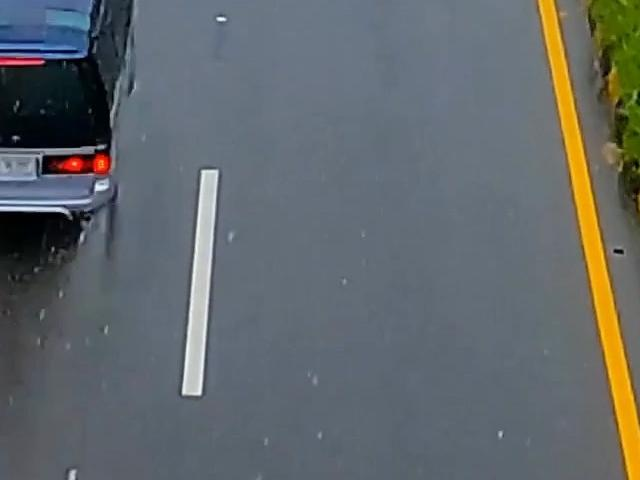car: (0, 0, 175, 256)
